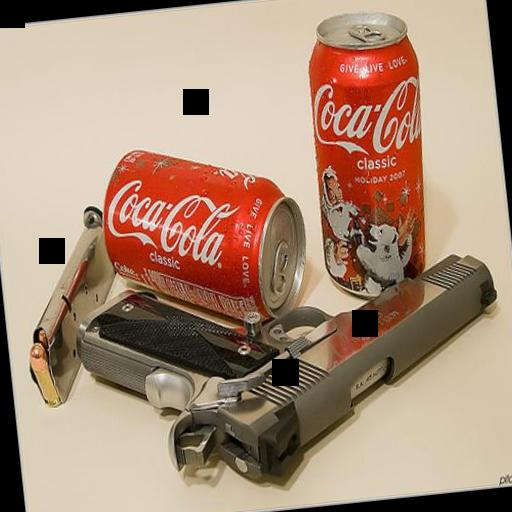Handgun: (63, 209, 512, 500)
